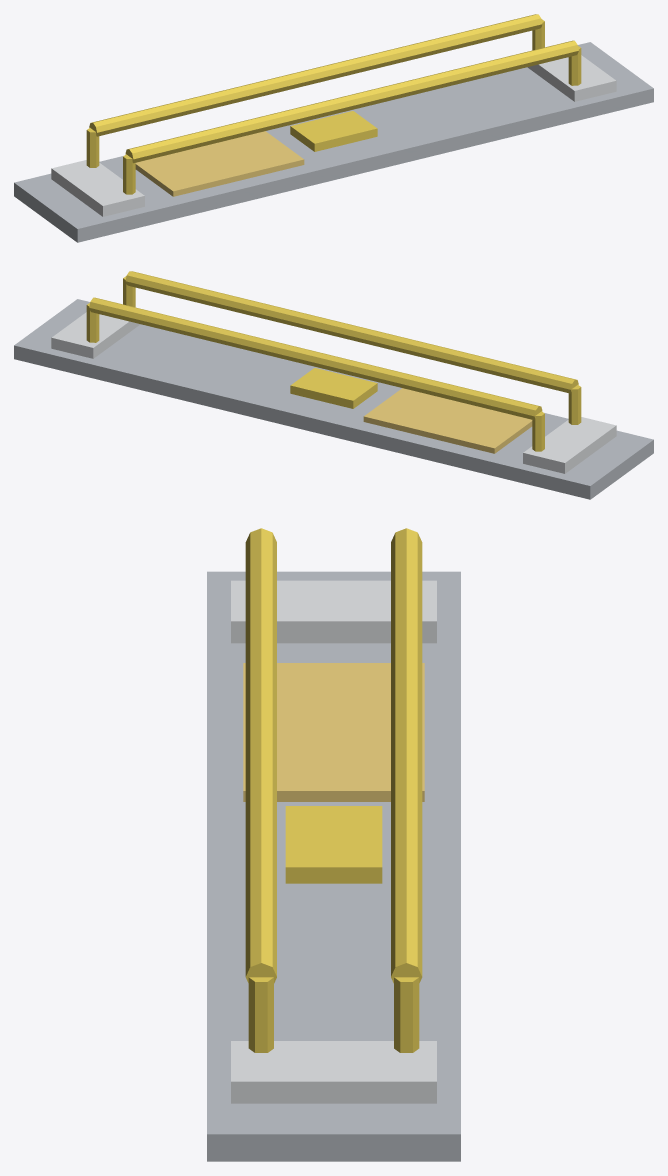
Rendered from orbital-station-and-docking-bays-handrail-run-19cbf5b5__24547.glb.
The picture shows the model from 3 angles, top to bottom: view 1: azimuth 30°, elevation 25°; view 2: azimuth 150°, elevation 25°; view 3: azimuth 270°, elevation 25°; orthographic projection. The views are drawn at different scales.
Parts seen in each view (by area): view 1: handrail-run; view 2: handrail-run; view 3: handrail-run.
Part boxes in pixels (bbox=[...]): handrail-run: bbox=[14, 14, 653, 242]; handrail-run: bbox=[14, 271, 653, 499]; handrail-run: bbox=[207, 528, 460, 1161].
Bounding box in the file's own units: 2.2 × 0.246 × 0.42.
